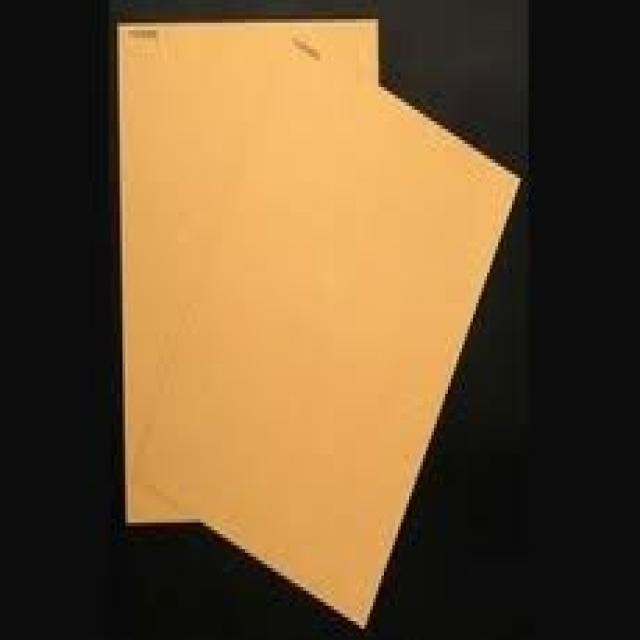Cardboard: (119, 22, 526, 630)
